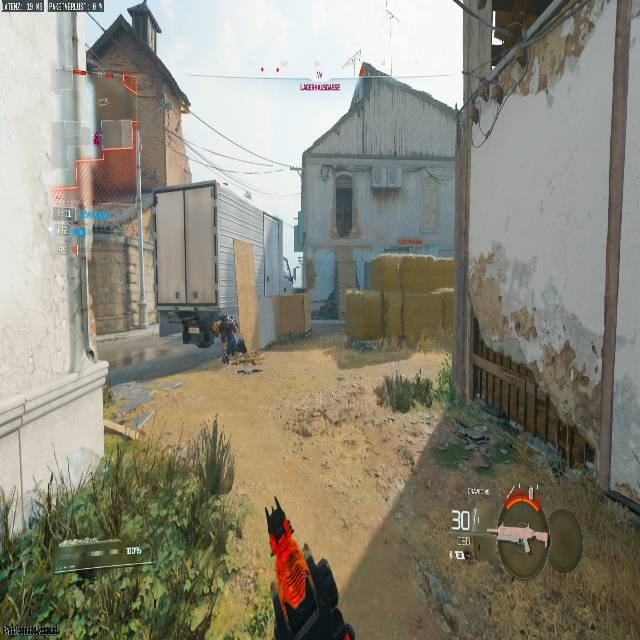player: (213, 314, 240, 365)
